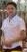boots: (0, 49, 12, 52), (0, 48, 8, 52)
ppe-suit: (0, 26, 14, 52)
